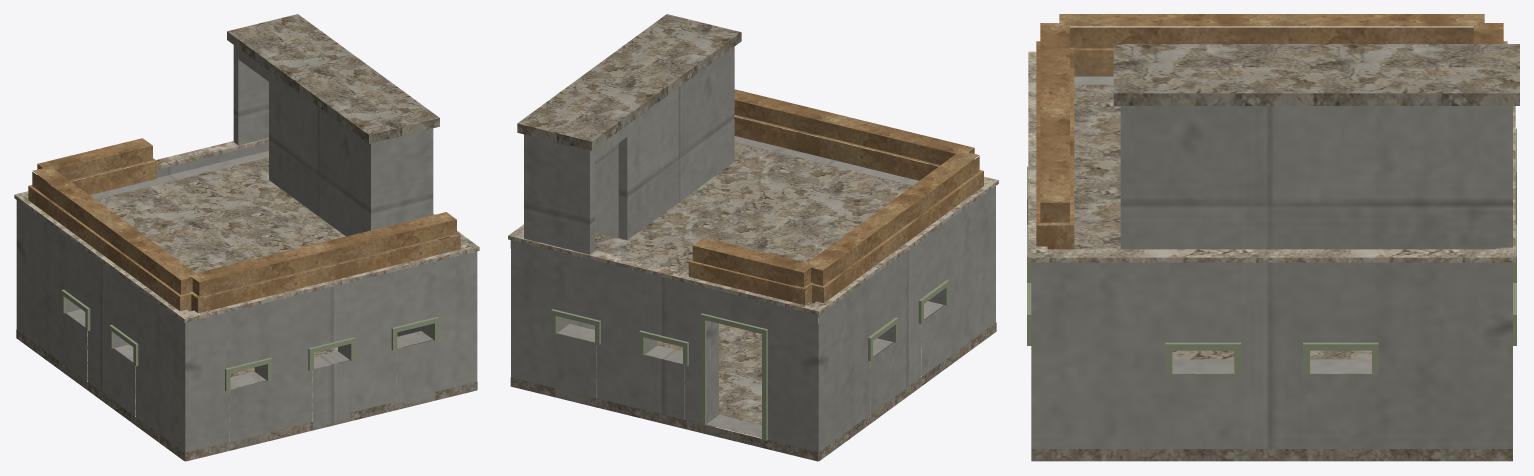
The model's file is mb-pillbox.zfix-v20.lod1.glb.
The picture shows the model from 3 angles, left to right: view 1: azimuth 30°, elevation 25°; view 2: azimuth 150°, elevation 25°; view 3: azimuth 270°, elevation 25°; orthographic projection. The views are drawn at different scales.
Visible parts, largest first — view 1: mb-pillbox; view 2: mb-pillbox; view 3: mb-pillbox.
Boxes of the visible parts, x1,y1,x2,y2 form: mb-pillbox: (14, 14, 479, 461); mb-pillbox: (508, 14, 998, 461); mb-pillbox: (1027, 14, 1519, 461).
Bounding box in the file's own units: 7.12 × 5.82 × 7.16.
Materials: 4 (3 with a texture image).
